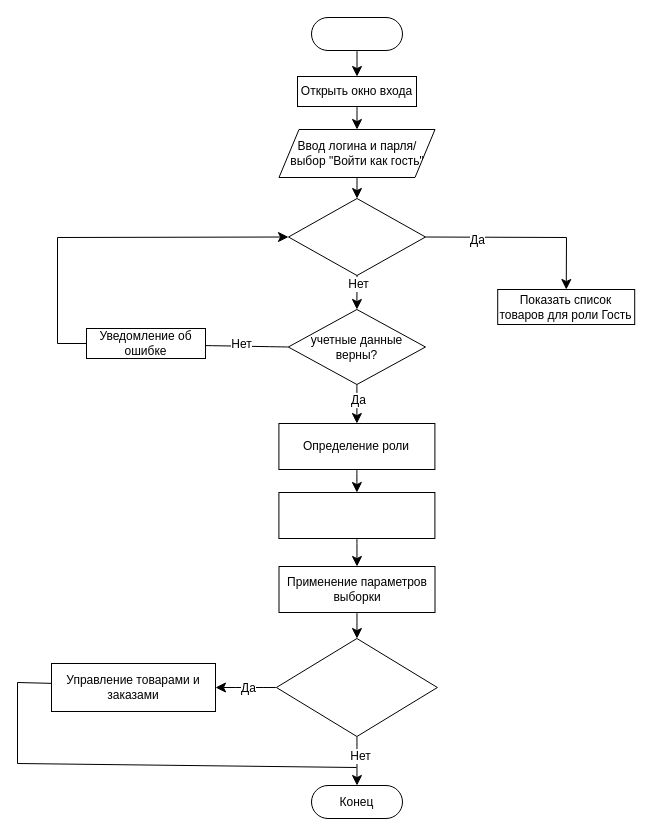
The diagram is 653 pixels wide and 836 high, and some of its shapes have lost their labels. Each missing label, with the box of its shape:
Выбран гостевой доступ?: (288, 198, 426, 276)
Есть права на модификацию данных: (275, 638, 437, 736)
Начало: (310, 16, 402, 50)
Показать список товаров: (278, 492, 435, 538)
